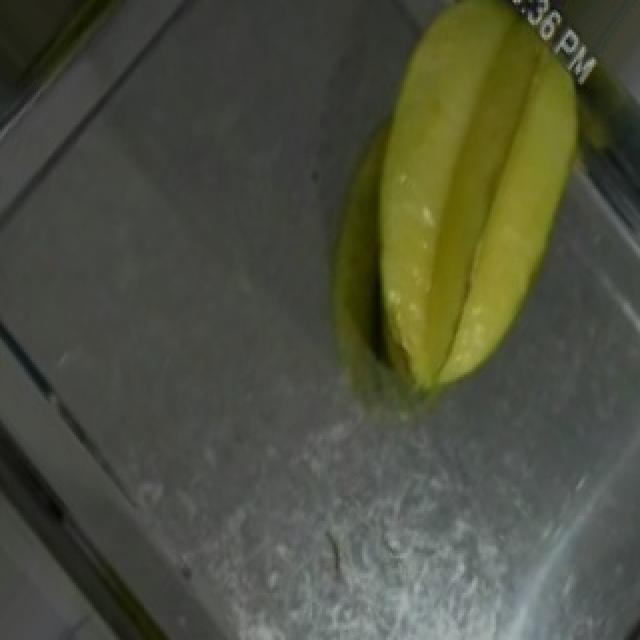fruit: (330, 5, 640, 392)
